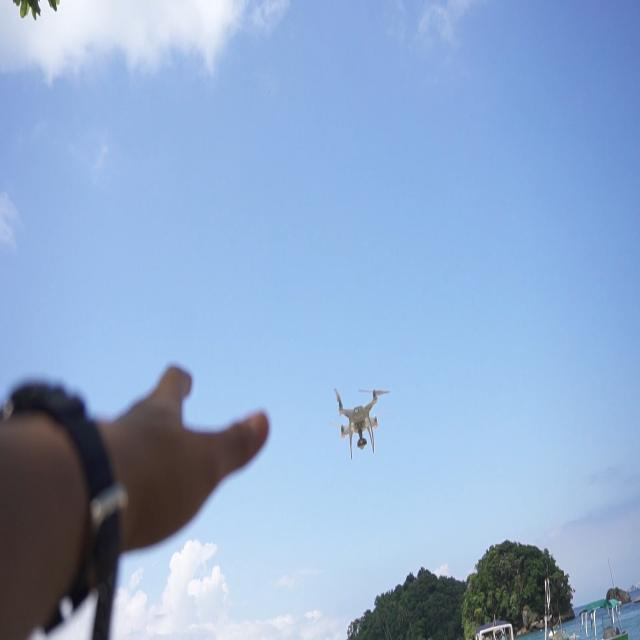Drone: (324, 386, 392, 472)
